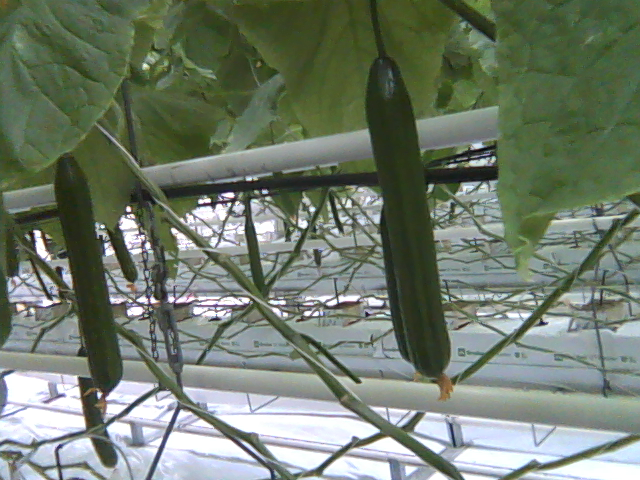concombre: (364, 50, 455, 404), (52, 153, 127, 414)
